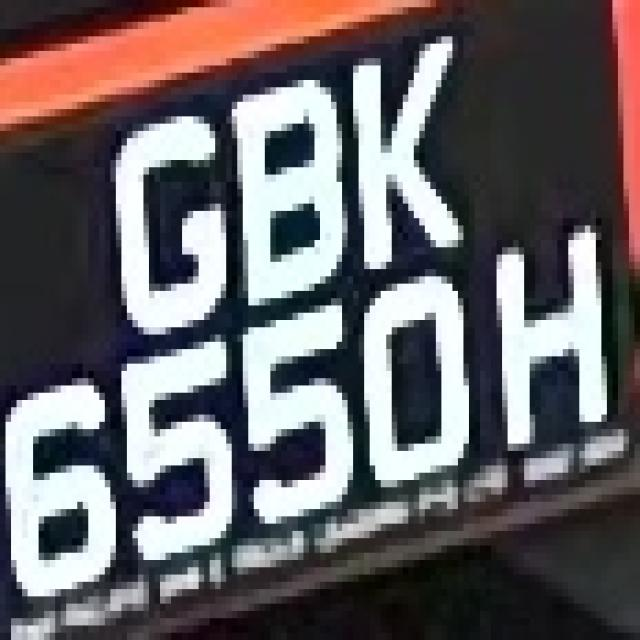0: (358, 240, 486, 516)
5: (121, 305, 238, 582), (237, 284, 353, 552)
6: (0, 342, 127, 611)
B: (215, 73, 353, 320)
G: (99, 102, 243, 356)
H: (485, 203, 618, 472)
K: (326, 29, 474, 262)
